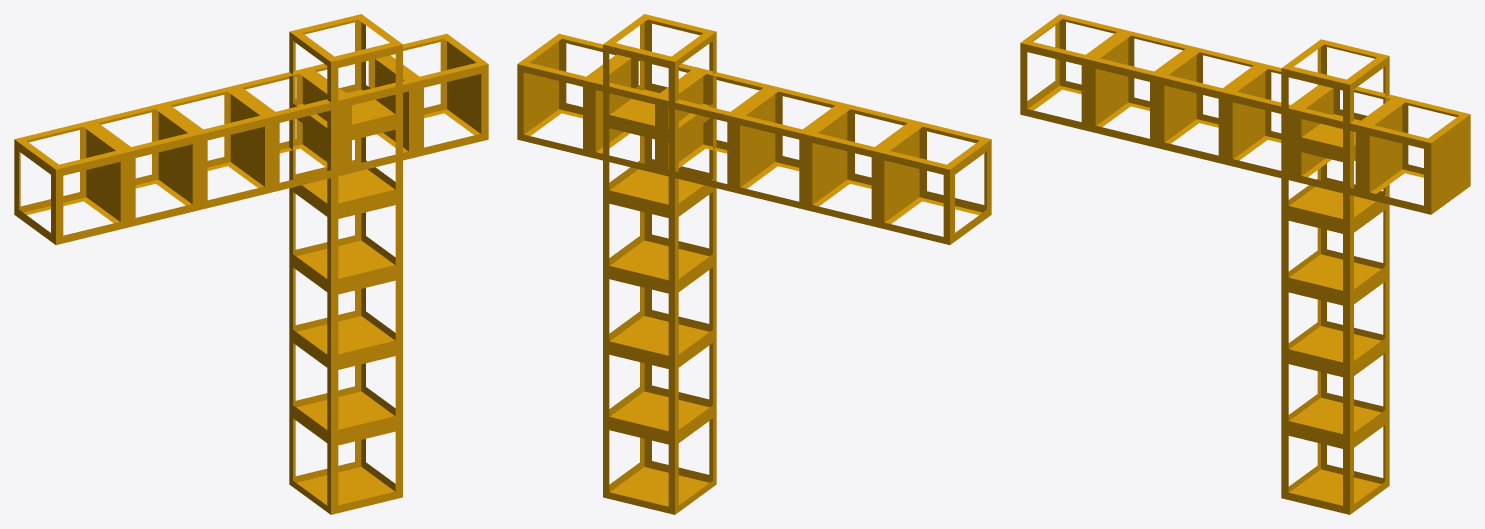
Rendered from crane.fbx.
The picture shows the model from 3 angles, left to right: view 1: azimuth 30°, elevation 25°; view 2: azimuth 150°, elevation 25°; view 3: azimuth 330°, elevation 25°; orthographic projection. The views are drawn at different scales.
Visible parts, largest first — view 1: Crane; view 2: Crane; view 3: Crane.
Boxes of the visible parts, x1,y1,x2,y2 form: Crane: (14, 14, 488, 514); Crane: (517, 14, 991, 514); Crane: (1020, 14, 1470, 514).
Size of the model in its own units: 201 by 201 by 33.57.
